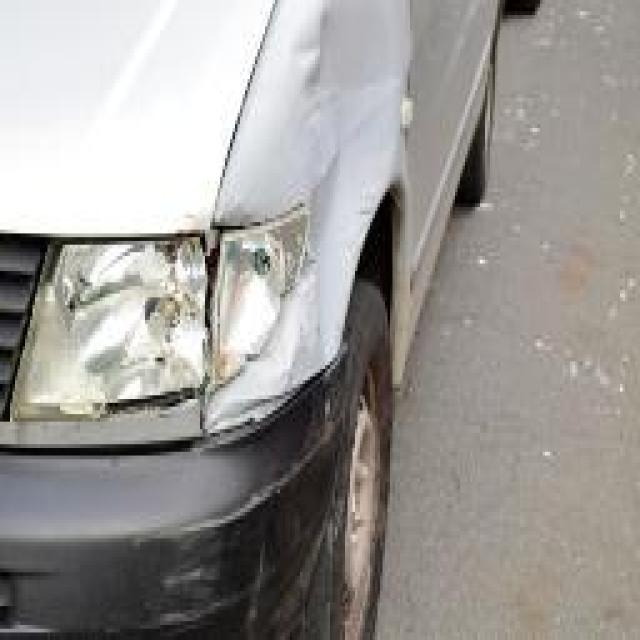Bumper: (122, 410, 340, 640)
Fender: (285, 11, 398, 312)
Light: (32, 241, 280, 414)
